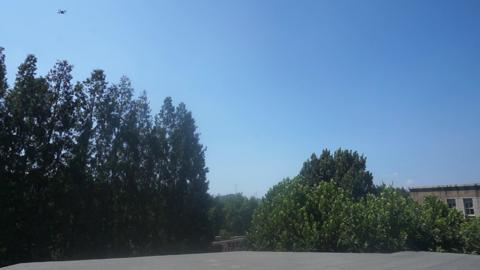UAV: (57, 9, 68, 14)
